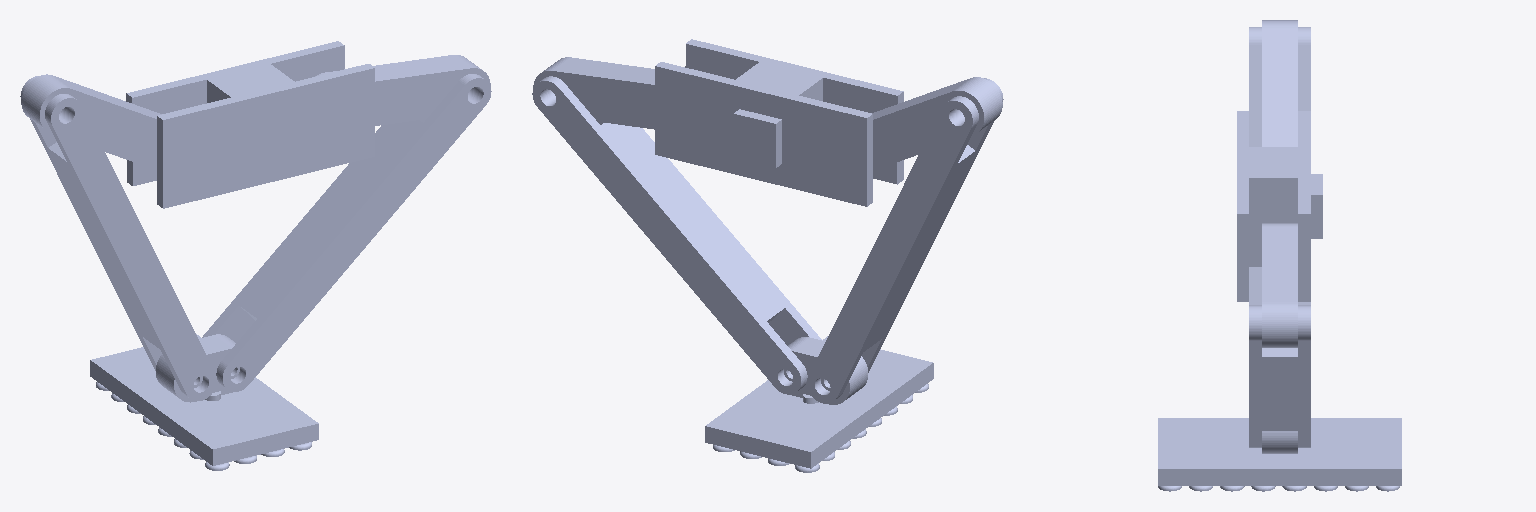
URDF robot description (robot):
<robot xmlns:xacro="http://www.ros.org/wiki/xacro" name="robot">

<link name="world"/>
<joint name="fixed_to_world" type="fixed">
  <parent link="world"/>
  <child link="lta-body"/>
  <origin xyz="0 0 0" rpy="0 0 0"/>
</joint>

<link name="lta-body">
<visual>
<origin xyz="-0.48567411093248913367 -0.35786915395602325596 -0.30187721306692449907" rpy="-1.4279489033863025854e-18 -0.0026191283260932648851 5.4520067672715764569e-16" />
<geometry>
<mesh filename="package://arm/meshes/lta-body.stl"/>
</geometry>
<material name="lta-body_material">
<color rgba="0.79215686274509800047 0.81960784313725487671 0.93333333333333334814 1.0"/>
</material>
</visual>
<collision>
<origin xyz="-0.48567411093248913367 -0.35786915395602325596 -0.30187721306692449907" rpy="-1.4279489033863025854e-18 -0.0026191283260932648851 5.4520067672715764569e-16" />
<geometry>
<mesh filename="package://arm/meshes/lta-body.stl"/>
</geometry>
</collision>
<inertial>
<origin xyz="0 0 0" rpy="0 0 0"/>
<mass value="0" />
  <inertia ixx="0" ixy="0" ixz="0" iyy="0" iyz="0" izz="0" />
  </inertial>
</link>

<link name="activearm">
<visual>
<origin xyz="0 0.060499999999999887201 -0.015000000000000013323" rpy="1.570796326794896558 -1.469367938527859385e-39 0" />
<geometry>
<mesh filename="package://arm/meshes/activearm.stl"/>
</geometry>
<material name="activearm_material">
<color rgba="0.79215686274509800047 0.81960784313725487671 0.93333333333333334814 1.0"/>
</material>
</visual>
<collision>
<origin xyz="0 0.060499999999999887201 -0.015000000000000013323" rpy="1.570796326794896558 -1.469367938527859385e-39 0" />
<geometry>
<mesh filename="package://arm/meshes/activearm.stl"/>
</geometry>
</collision>
<inertial>
<origin xyz="0 0 0" rpy="0 0 0"/>
<mass value="4" />
  <inertia ixx="0.00417" ixy="0" ixz="0" iyy="0.03083" iyz="0" izz="0.03333" />
  </inertial>
</link>

<link name="lta-passivarm">
<visual>
<origin xyz="0 -0.1500000000000000222 0.015000000000000068834" rpy="-1.57079632679489678 -0 0" />
<geometry>
<mesh filename="package://arm/meshes/lta-passivarm.stl"/>
</geometry>
<material name="lta-passivarm_material">
<color rgba="0.79215686274509800047 0.81960784313725487671 0.93333333333333334814 1.0"/>
</material>
</visual>
<collision>
<origin xyz="0 -0.1500000000000000222 0.015000000000000068834" rpy="-1.57079632679489678 -0 0" />
<geometry>
<mesh filename="package://arm/meshes/lta-passivarm.stl"/>
</geometry>
</collision>
<inertial>
<origin xyz="0 0 0" rpy="0 0 0"/>
<mass value="4" />
  <inertia ixx="0.00417" ixy="0" ixz="0" iyy="0.03083" iyz="0" izz="0.03333" />
  </inertial>
</link>

<link name="lta-tooladaptertest">
<visual>
<origin xyz="0.017500000000000182077 -0.036000000000000587086 -0.015000000000000013323" rpy="-1.570796326794896558 -8.2729476294241598222e-24 2.2117724318703883697e-17" />
<geometry>
<mesh filename="package://arm/meshes/tooltest.stl"/>
</geometry>
<material name="tooltest_material">
<color rgba="0.79215686274509800047 0.81960784313725487671 0.93333333333333334814 1.0"/>
</material>
</visual>
<collision>
<origin xyz="0.017500000000000182077 -0.036000000000000587086 -0.015000000000000013323" rpy="-1.570796326794896558 -8.2729476294241598222e-24 2.2117724318703883697e-17" />
<geometry>
<mesh filename="package://arm/meshes/tooltest.stl"/>
</geometry>
</collision>
<visual>
<origin xyz="0.017499999999999960032 0 -0.015000000000000013323" rpy="-1.570796326794896558 -3.6981992672349822831e-33 8.6736173798840354721e-19" />
<geometry>
<mesh filename="package://arm/meshes/lta-tooladaptertest.stl"/>
</geometry>
<material name="lta-tooladaptertest_material">
<color rgba="0.79215686274509800047 0.81960784313725487671 0.93333333333333334814 1.0"/>
</material>
</visual>
<collision>
<origin xyz="0.017499999999999960032 0 -0.015000000000000013323" rpy="-1.570796326794896558 -3.6981992672349822831e-33 8.6736173798840354721e-19" />
<geometry>
<mesh filename="package://arm/meshes/lta-tooladaptertest.stl"/>
</geometry>
</collision>
<inertial>
<origin xyz="0 0 0" rpy="0 0 0"/>
<mass value="4" />
  <inertia ixx="0.00417" ixy="0" ixz="0" iyy="0.03083" iyz="0" izz="0.03333" /></inertial>
</link>

<joint name="toolV" type="revolute">
<origin xyz="5.5511151231257827021e-16 -0.29999999999999860112 0.030000000000000026645" rpy="2.1684325363857330456e-19 -4.201473029868849641e-17 -0.43319888155606767199" />
<parent link="lta-passivarm" />
<child link="lta-tooladaptertest" />
<axis xyz="0 0 1"/>
<limit effort="1" velocity="20" />
<joint_properties friction="0.0"/>
</joint>

<joint name="elbowV" type="revolute">
<origin xyz="-1.1102230246251565404e-16 0.1210000000000017728 -5.5511151231257827021e-17" rpy="-3.141592653589793116 1.4029555309302166103e-23 -2.5275930356699616297" />
<parent link="activearm" />
<child link="lta-passivarm" />
<axis xyz="0 0 1"/>
<limit effort="1" velocity="20" />
<joint_properties friction="0.0"/>
</joint>

<joint name="motorV" type="revolute">
<origin xyz="-0.56567383653931846421 -0.33786915395602329371 -0.30208674309345501241" rpy="1.570796326794896558 1.0498176278019926144 -3.141592653589793116" />
<parent link="lta-body" />
<child link="activearm" />
<axis xyz="0 0 1"/>
<limit effort="1" velocity="20" lower="0" upper="2.0943951023931952626"/>
<joint_properties friction="0.0"/>
</joint>

<link name="activearm_2">
<visual>
<origin xyz="0 0.060499999999999998224 -0.015000000000000013323" rpy="1.570796326794896558 -0 -1.3877787807814456755e-17" />
<geometry>
<mesh filename="package://arm/meshes/activearm.stl"/>
</geometry>
<material name="activearm_material">
<color rgba="0.79215686274509800047 0.81960784313725487671 0.93333333333333334814 1.0"/>
</material>
</visual>
<collision>
<origin xyz="0 0.060499999999999998224 -0.015000000000000013323" rpy="1.570796326794896558 -0 -1.3877787807814456755e-17" />
<geometry>
<mesh filename="package://arm/meshes/activearm.stl"/>
</geometry>
</collision>
<inertial>
<origin xyz="0 0 0" rpy="0 0 0"/>
<mass value="4" />
  <inertia ixx="0.00417" ixy="0" ixz="0" iyy="0.03083" iyz="0" izz="0.03333" />
  </inertial>
</link>

<link name="lta-passivarm_2">
<visual>
<origin xyz="0 0.14999999999999996669 0.015000000000000013323" rpy="1.570796326794896558 -3.6734198463196484624e-40 -5.5511151231257827021e-17" />
<geometry>
<mesh filename="package://arm/meshes/lta-passivarm.stl"/>
</geometry>
<material name="lta-passivarm_material">
<color rgba="0.79215686274509800047 0.81960784313725487671 0.93333333333333334814 1.0"/>
</material>
</visual>
<collision>
<origin xyz="0 0.14999999999999996669 0.015000000000000013323" rpy="1.570796326794896558 -3.6734198463196484624e-40 -5.5511151231257827021e-17" />
<geometry>
<mesh filename="package://arm/meshes/lta-passivarm.stl"/>
</geometry>
</collision>
<inertial>
<origin xyz="0 0 0" rpy="0 0 0"/>
<mass value="4" />
  <inertia ixx="0.00417" ixy="0" ixz="0" iyy="0.03083" iyz="0" izz="0.03333" />
  </inertial>
</link>

<joint name="elbowH" type="revolute">
<origin xyz="2.720046410331633524e-15 0.12100000000000182832 -0.030000000000000082157" rpy="-5.1648064932760115286e-24 -1.4008023803742507427e-23 2.311678298551733679" />
<parent link="activearm_2" />
<child link="lta-passivarm_2" />
<axis xyz="0 0 1"/>
<limit effort="1" velocity="20" />
<joint_properties friction="0.0"/>
</joint>

<joint name="motorH" type="revolute">
<origin xyz="-0.40567438532566235665 -0.33786915395602329371 -0.30166768304039565107" rpy="-1.570796326794896558 -1.4701964741888278176 2.4104629166993733823e-23" />
<parent link="lta-body" />
<child link="activearm_2" />
<axis xyz="0 0 1"/>
<limit effort="1" velocity="20" lower="-2.0943951023931952626" upper="0"/>
<joint_properties friction="0.0"/>
</joint>


</robot>

--- What the picture shows (computed from the rendered views, not written in the file) ---
3 views of the same robot in one strip: view 1: azimuth 30°, elevation 25°; view 2: azimuth 150°, elevation 25°; view 3: azimuth 270°, elevation 25° (orthographic).
Robot: robot — 7 links, 6 joints (5 revolute, 1 fixed); root link world; default pose: every joint at zero.
Visible links, largest first — view 1: lta-body, lta-passivarm_2, lta-passivarm, lta-tooladaptertest, activearm, activearm_2; view 2: lta-body, lta-passivarm_2, lta-passivarm, lta-tooladaptertest, activearm_2, activearm; view 3: lta-tooladaptertest, lta-body, lta-passivarm_2, activearm, activearm_2, lta-passivarm.
Boxes of the visible links, x1,y1,x2,y2 form: lta-body: [126, 41, 374, 208]; lta-passivarm_2: [202, 74, 491, 391]; lta-passivarm: [20, 76, 216, 400]; lta-tooladaptertest: [90, 334, 318, 470]; activearm: [21, 74, 161, 169]; activearm_2: [315, 55, 490, 125]; lta-body: [655, 39, 903, 206]; lta-passivarm_2: [532, 76, 822, 394]; lta-passivarm: [807, 78, 1003, 403]; lta-tooladaptertest: [705, 336, 933, 472]; activearm_2: [533, 57, 654, 129]; activearm: [872, 77, 1002, 170]; lta-tooladaptertest: [1158, 418, 1401, 491]; lta-body: [1237, 111, 1322, 301]; lta-passivarm_2: [1249, 305, 1310, 447]; activearm: [1262, 20, 1297, 146]; activearm_2: [1262, 223, 1297, 347]; lta-passivarm: [1249, 27, 1310, 304].
Bounding box of the posed robot: 0.4253 × 0.2 × 0.334 m (x, y, z).
7 mesh visuals loaded from 5 distinct referenced files (5 binary STL).